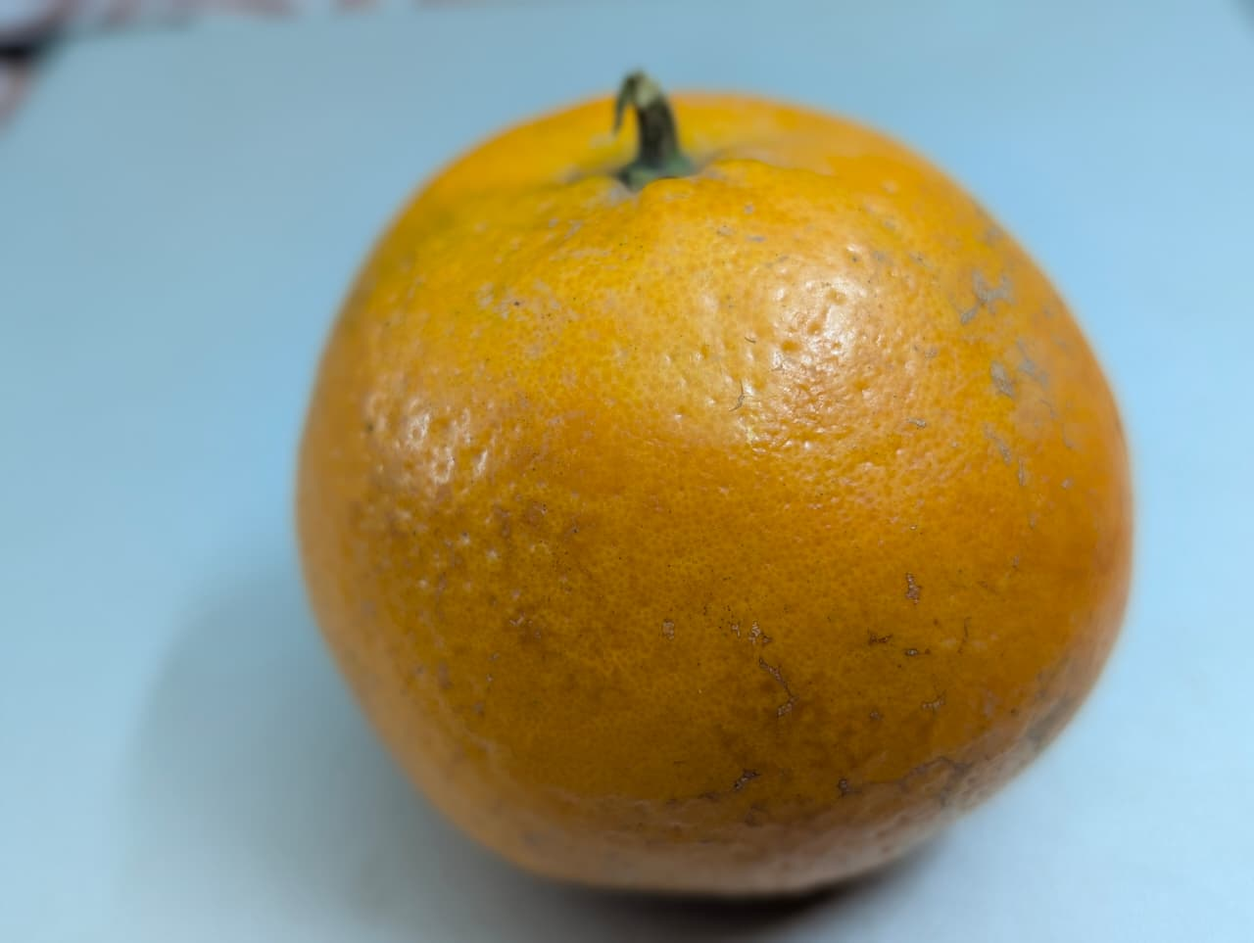orange: (186, 219, 1156, 900)
